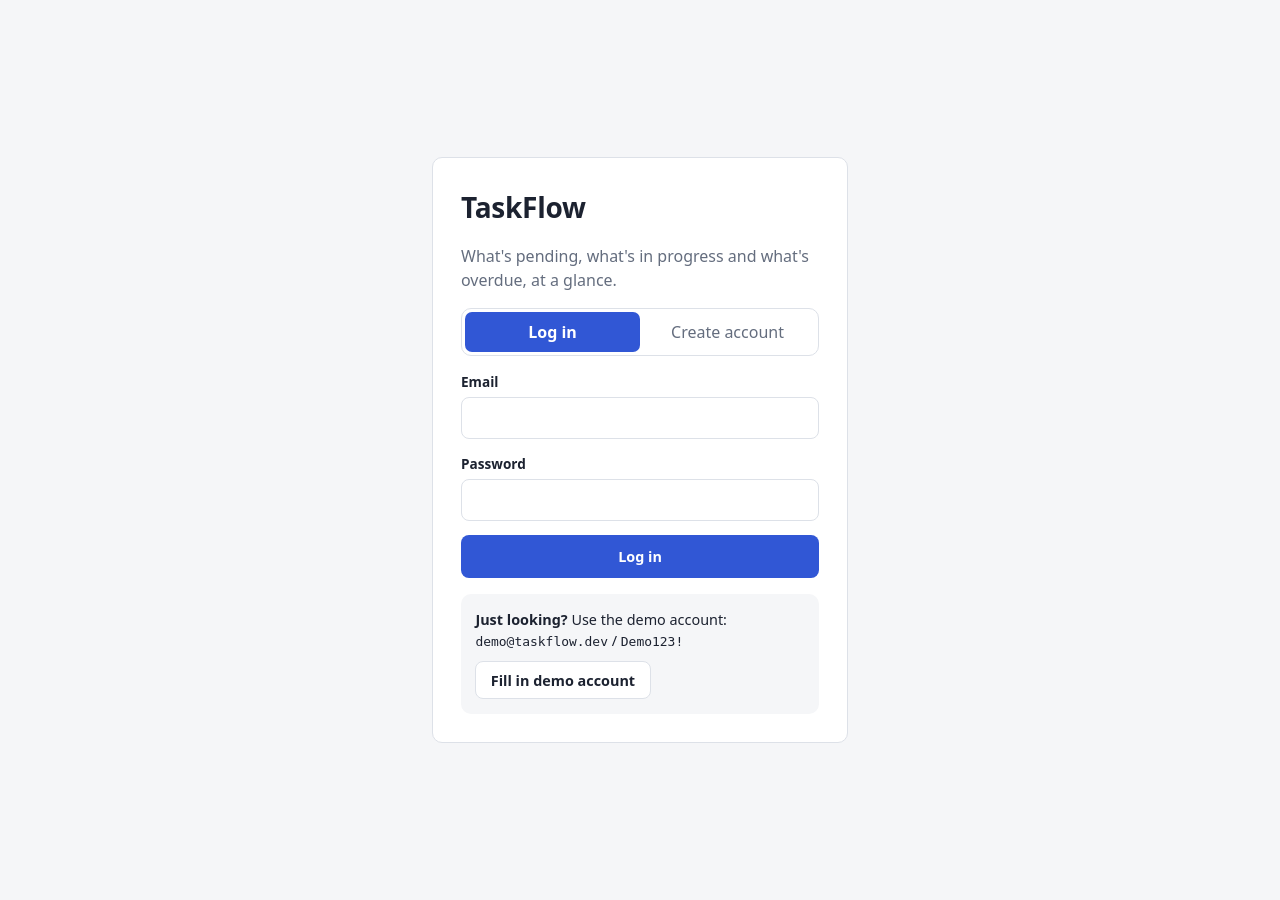
Test case: AuthPage › logs in with what I typed and takes me to my board
The width and height of the screenshot is (1280, 900).
Type "me@example.com" into the field labelled "Email". click: (640,418)
box: left=461, top=397, right=819, bottom=439
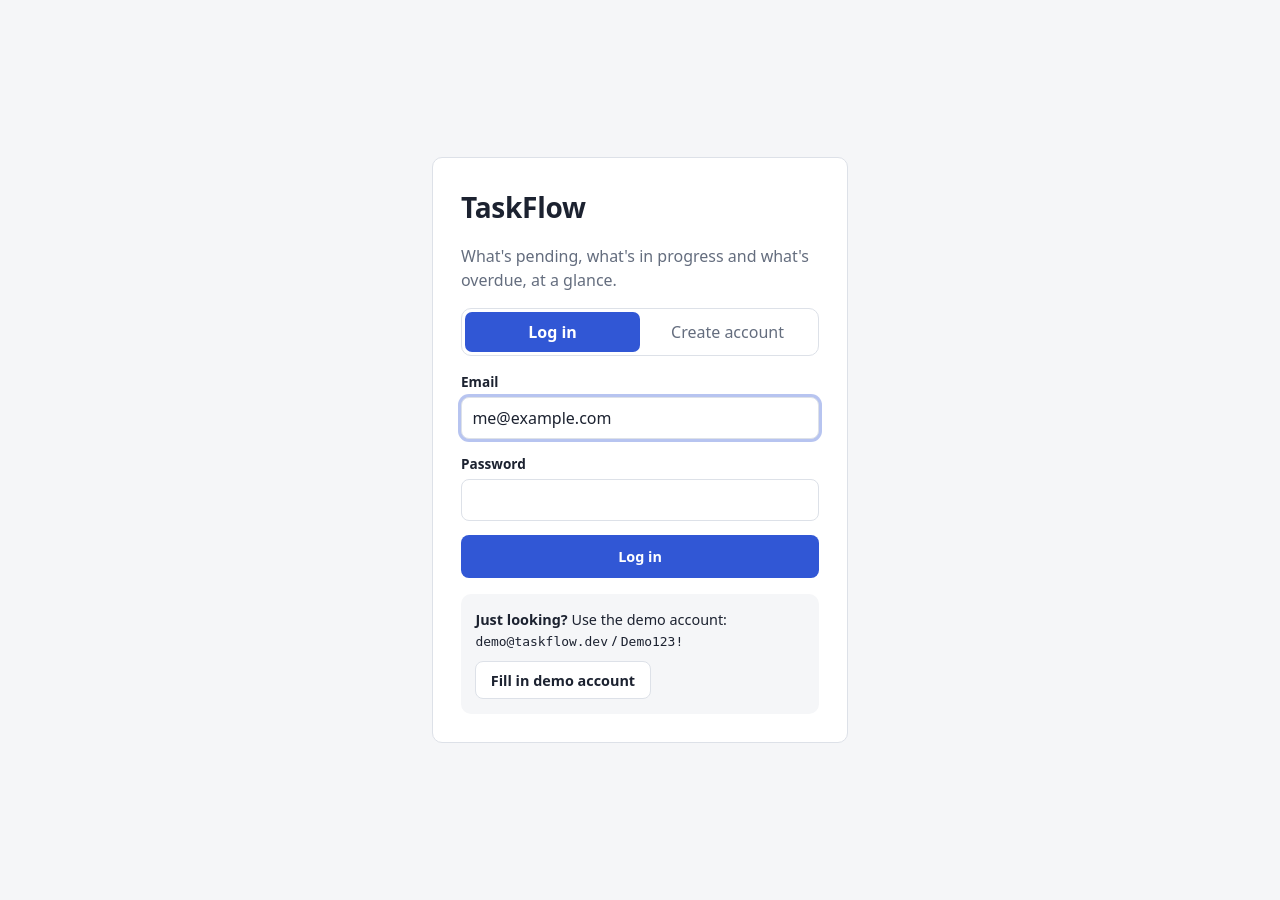
Type "Secret1!" into the password field labelled "Password". click: (640,500)
box: left=461, top=479, right=819, bottom=521
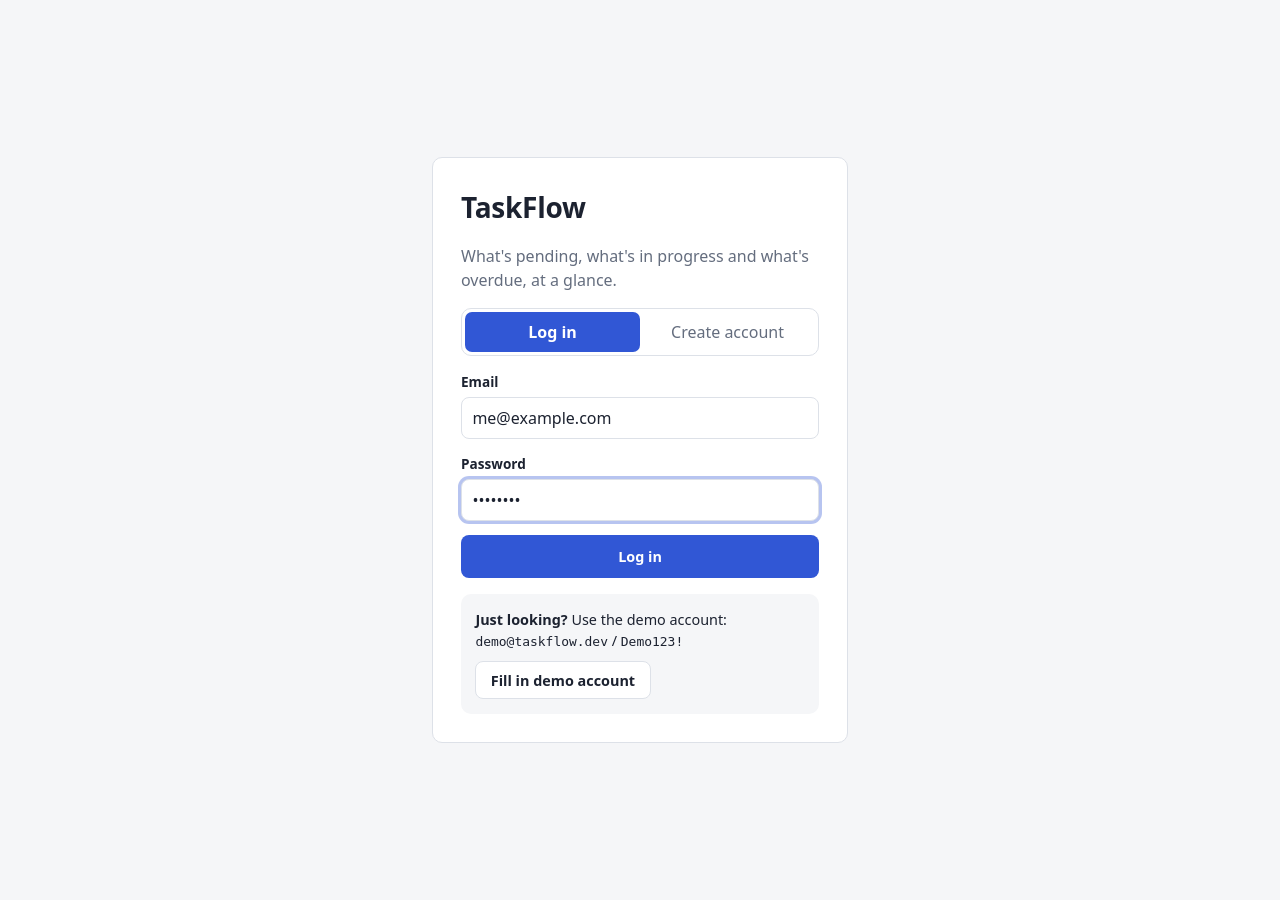
Click the button "Log in". click: (640,557)
box: left=461, top=535, right=819, bottom=578
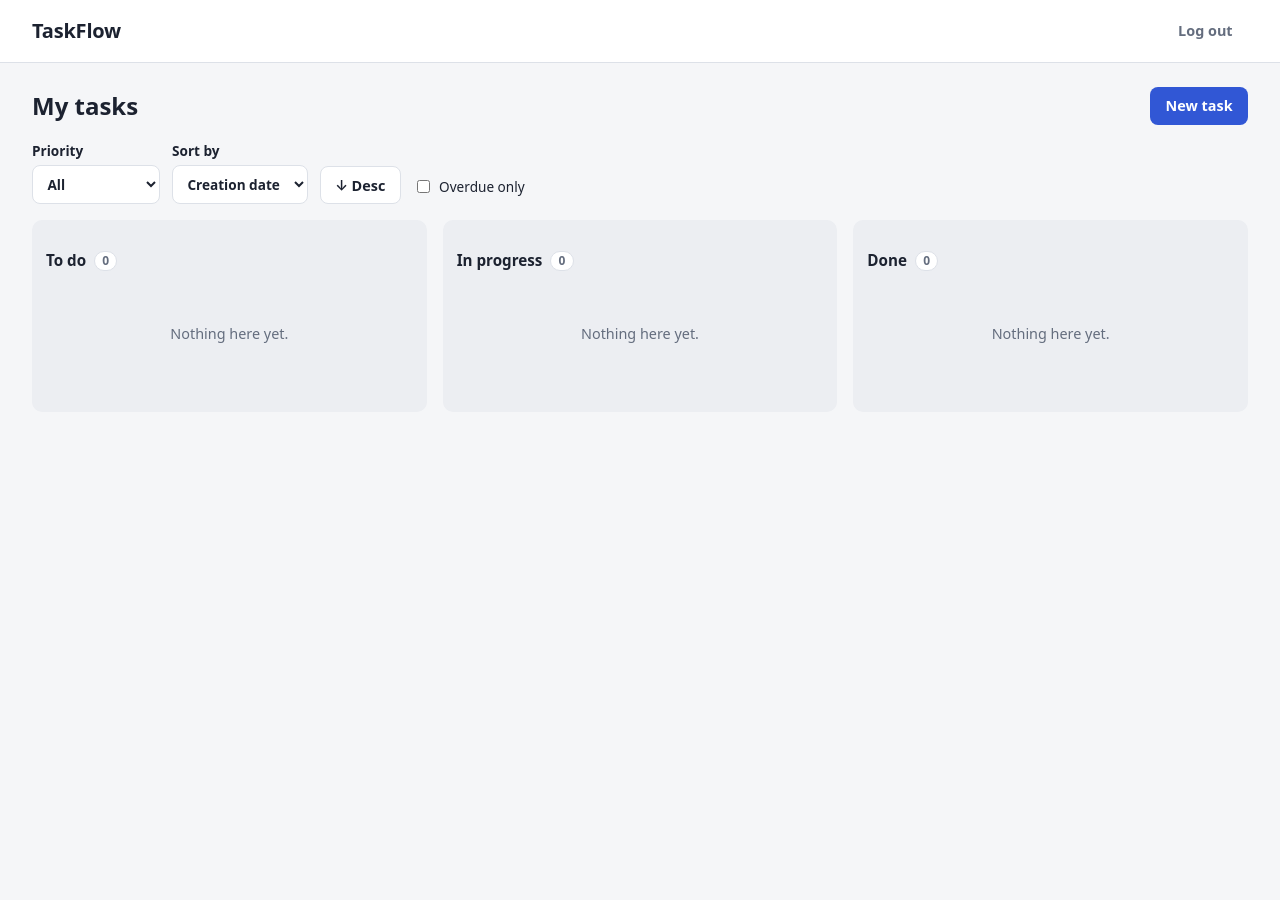
Expected: the heading "My tasks" is shown, left=32, top=88, right=138, bottom=124
